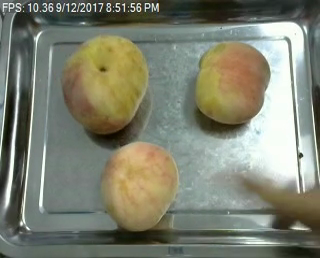Peach: (60, 32, 149, 134), (101, 140, 179, 230), (193, 39, 270, 124)
